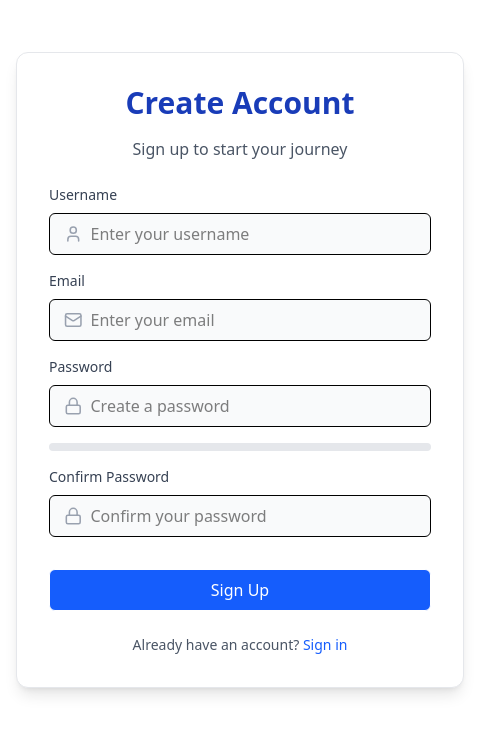
Test: Register Component › should display an error message when the form is submitted with empty fields
Click the button "Sign Up".
click(240, 590)  # box [49, 569, 431, 611]
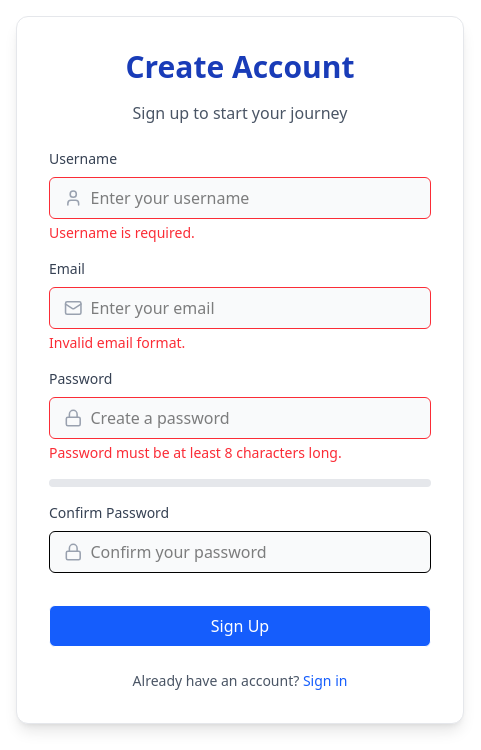
Expected: the text "Username is required." is shown, [49, 223, 195, 242]
Expected: the text "Invalid email format." is shown, [49, 333, 185, 352]
Expected: the text "Password must be at least 8 characters long." is shown, [49, 443, 342, 462]
